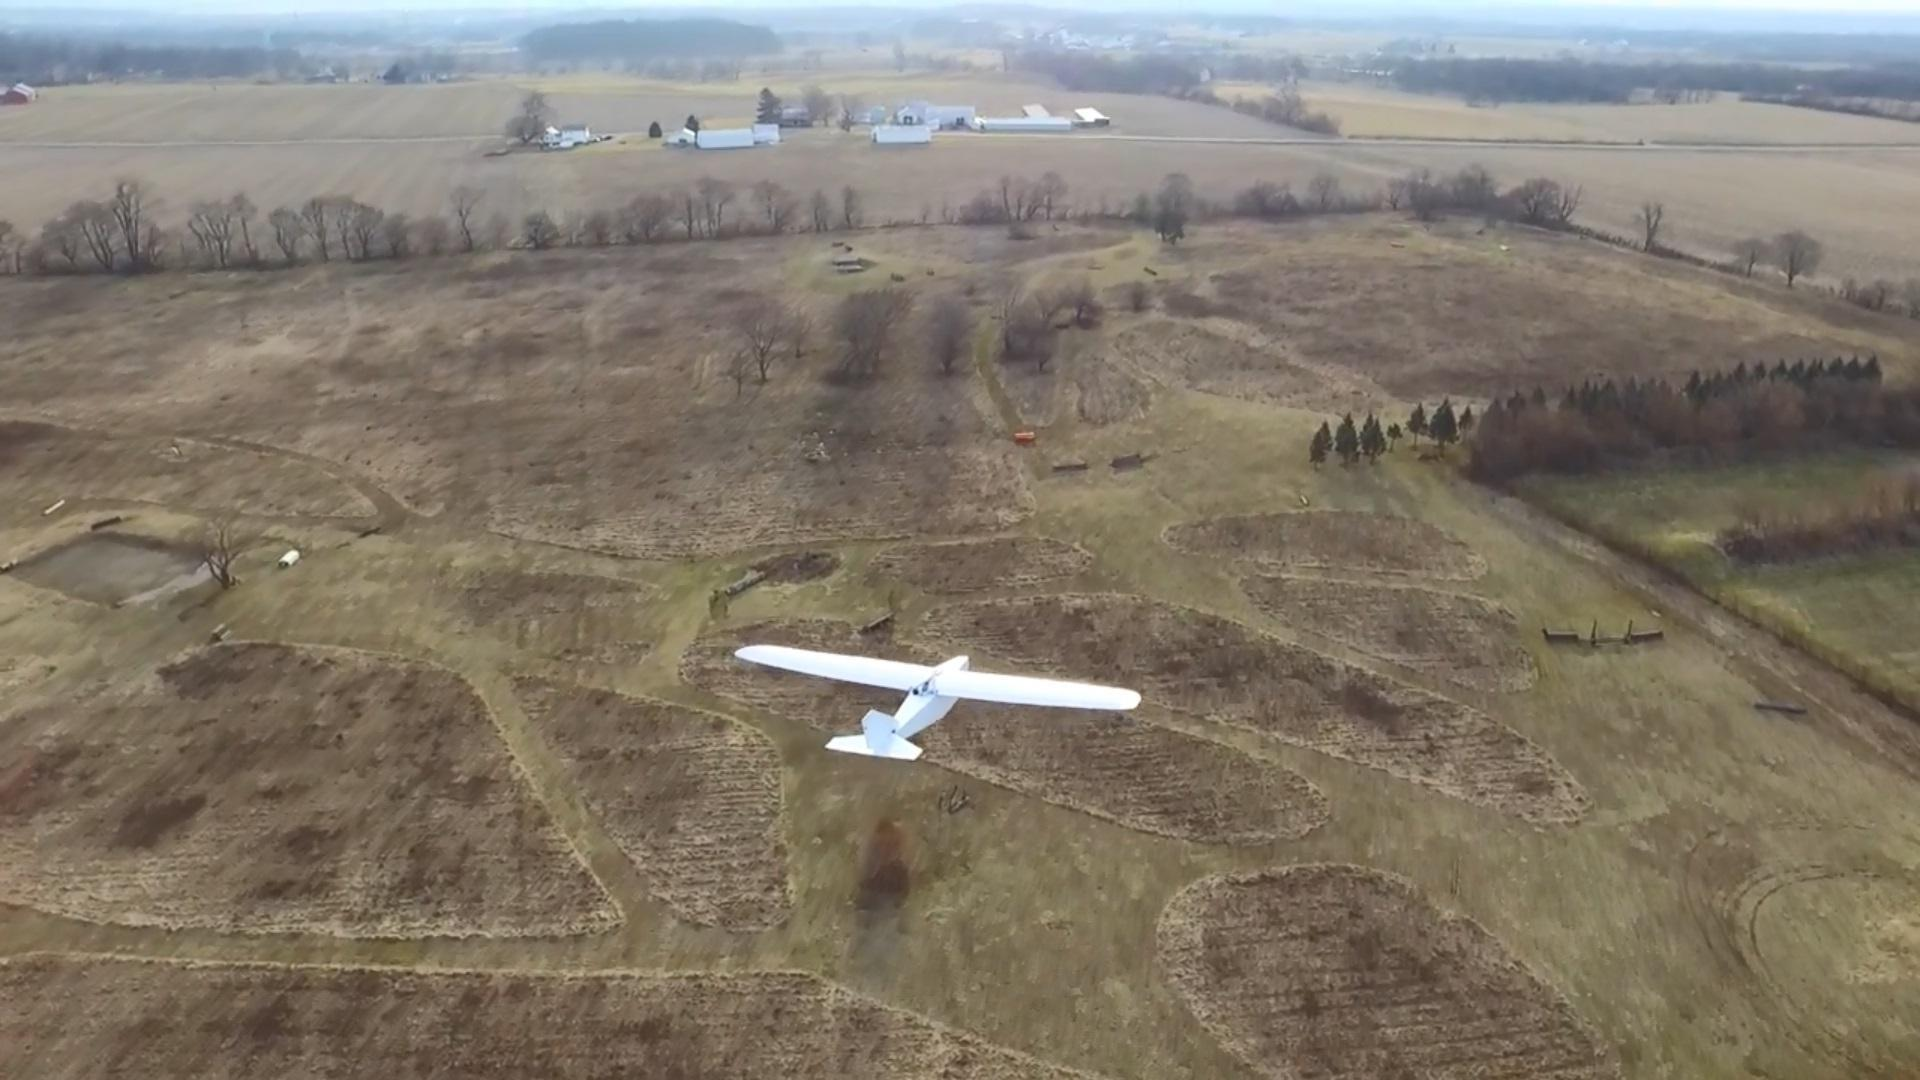Airplane: (725, 615, 1145, 766)
